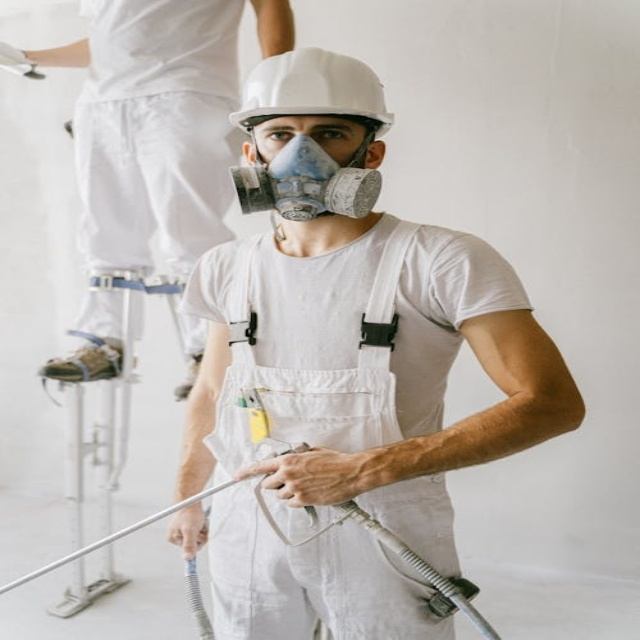Mascara: (229, 132, 383, 223)
Sin_gafas: (260, 121, 351, 143)
Sin_guantes: (246, 444, 367, 508), (167, 501, 211, 557)
